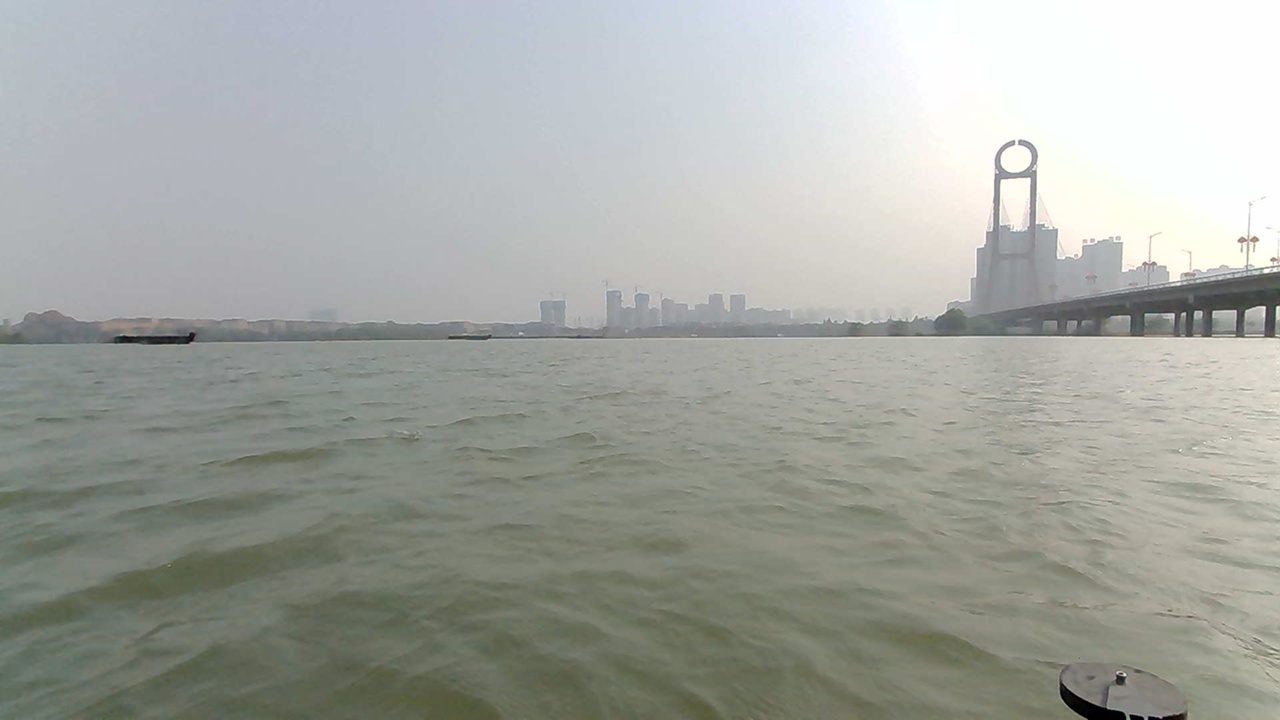bottle: (364, 412, 441, 455)
